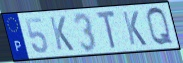3: (73, 10, 99, 54)
5: (23, 16, 49, 55)
K: (47, 15, 75, 52), (120, 10, 148, 47)
Q: (145, 6, 176, 48)
T: (95, 9, 117, 52)
